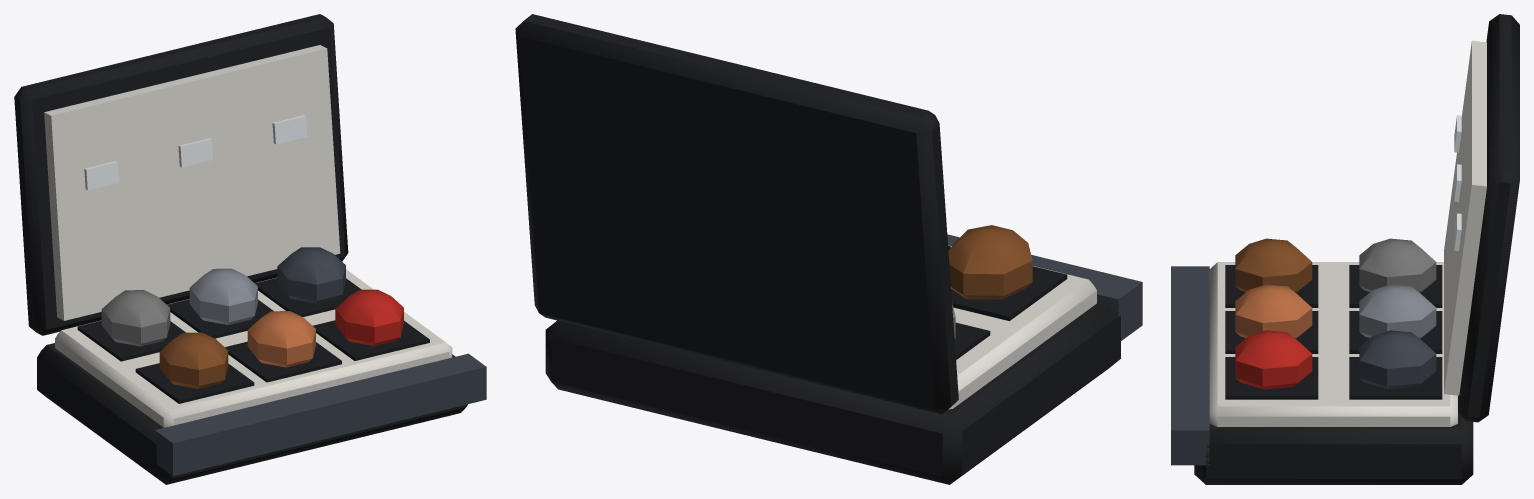
File: specimen_rock_sample_case.glb
3 renders of one model, left to right at view 1: azimuth 30°, elevation 25°; view 2: azimuth 150°, elevation 25°; view 3: azimuth 270°, elevation 25°, orthographic. The views are drawn at different scales.
Parts seen in each view (by area): view 1: specimen_rock_sample_case; view 2: specimen_rock_sample_case; view 3: specimen_rock_sample_case.
Part boxes in pixels (<box>): specimen_rock_sample_case: <box>14,14,486,484</box>; specimen_rock_sample_case: <box>515,14,1142,484</box>; specimen_rock_sample_case: <box>1171,14,1519,484</box>.
Size of the model in its own units: 0.5 by 0.4497 by 0.45.
